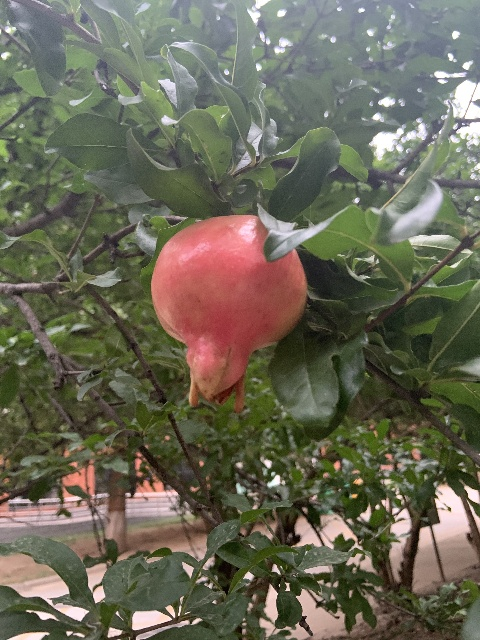ripe: (150, 213, 307, 413)
